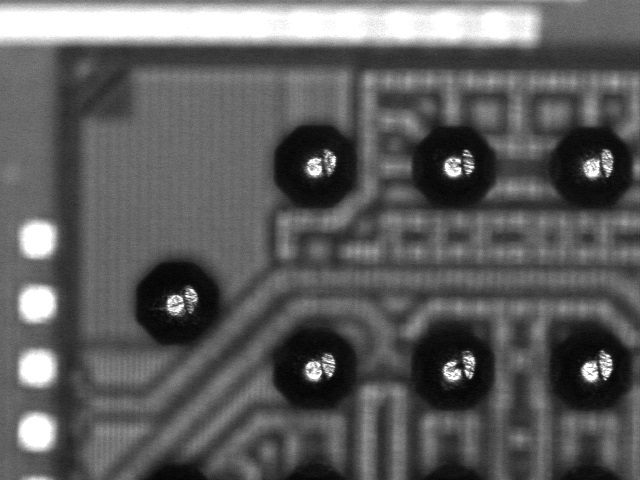shift: (405, 316, 507, 414), (126, 252, 227, 350), (263, 114, 364, 212), (267, 317, 368, 415), (403, 115, 504, 213), (539, 114, 640, 212), (539, 317, 640, 415)
